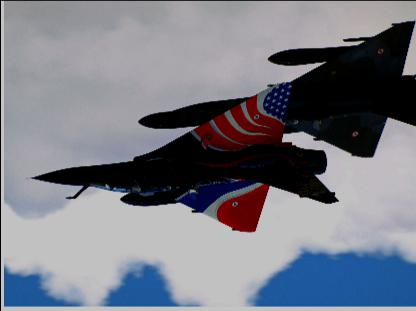Mirage2000: (23, 80, 337, 232), (171, 20, 415, 156)
